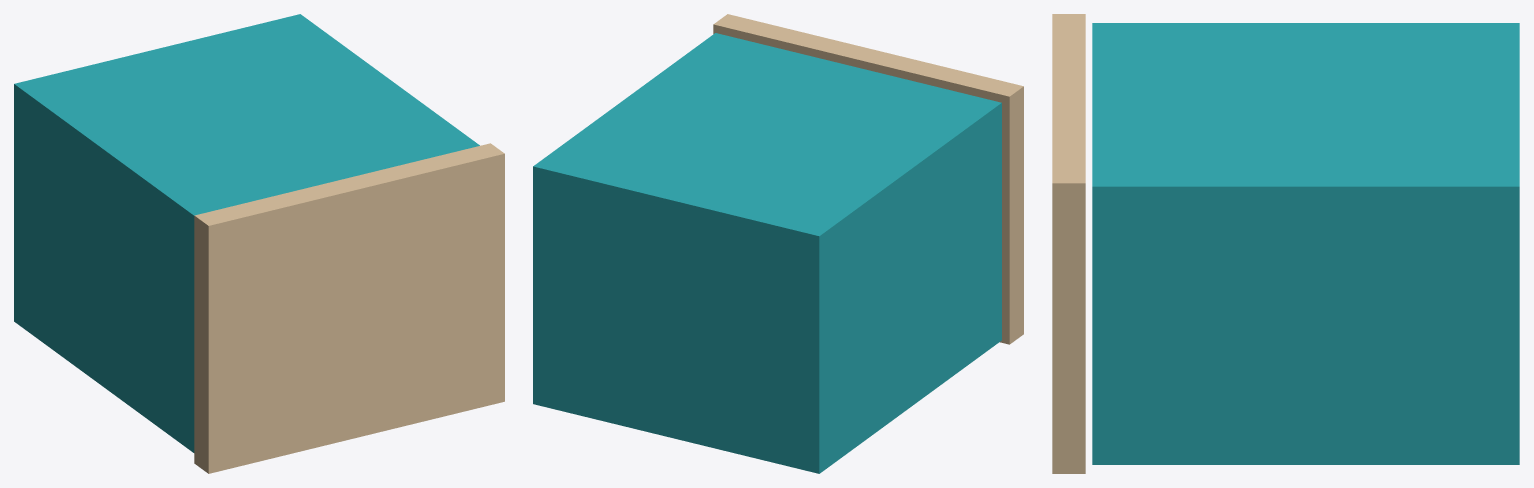
File: nightstand.glb
3 views of the same model, side by side, from view 1: azimuth 30°, elevation 25°; view 2: azimuth 150°, elevation 25°; view 3: azimuth 270°, elevation 25° (orthographic). The views are drawn at different scales.
Visible parts, largest first — view 1: world; view 2: world; view 3: world.
Part boxes in pixels (bbox=[...]): world: bbox=[14, 14, 504, 473]; world: bbox=[533, 14, 1023, 473]; world: bbox=[1052, 14, 1519, 473].
Bounding box in the file's own units: 0.6 × 0.5 × 0.7.
